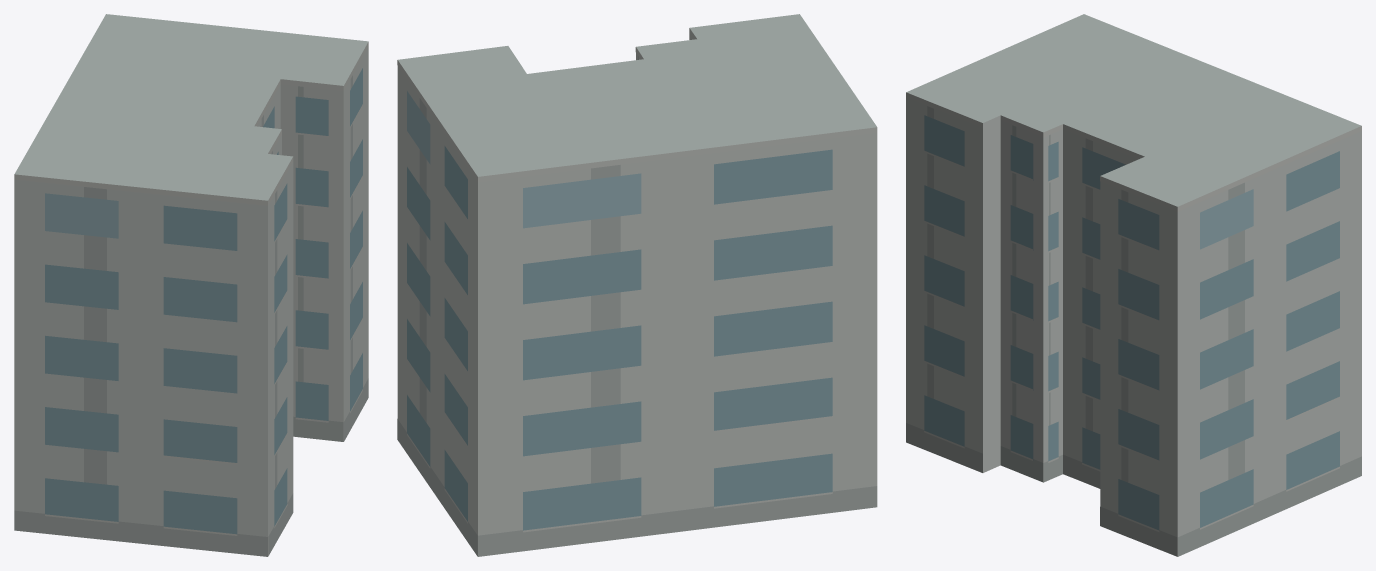
The model's file is survey-upis-32770309.glb.
3 renders of one model, left to right at view 1: azimuth 30°, elevation 25°; view 2: azimuth 150°, elevation 25°; view 3: azimuth 270°, elevation 25°, orthographic. The views are drawn at different scales.
Parts seen in each view (by area): view 1: survey-upis-32770309.tmp; view 2: survey-upis-32770309.tmp; view 3: survey-upis-32770309.tmp.
Boxes of the visible parts, x1,y1,x2,y2 form: survey-upis-32770309.tmp: (14, 14, 368, 556); survey-upis-32770309.tmp: (397, 14, 877, 556); survey-upis-32770309.tmp: (906, 14, 1361, 556).
Bounding box in the file's own units: 19.38 × 16.4 × 19.36.
